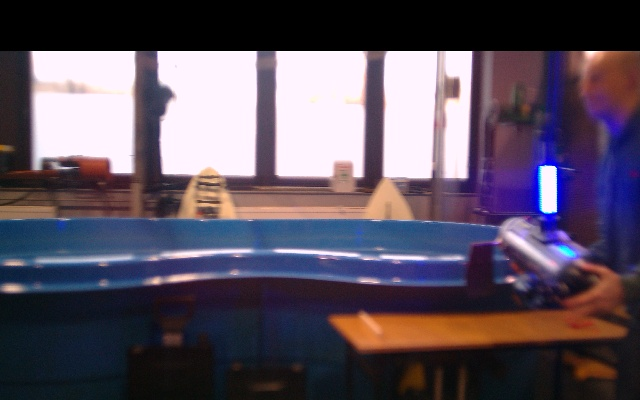blue: (539, 159, 558, 221)
